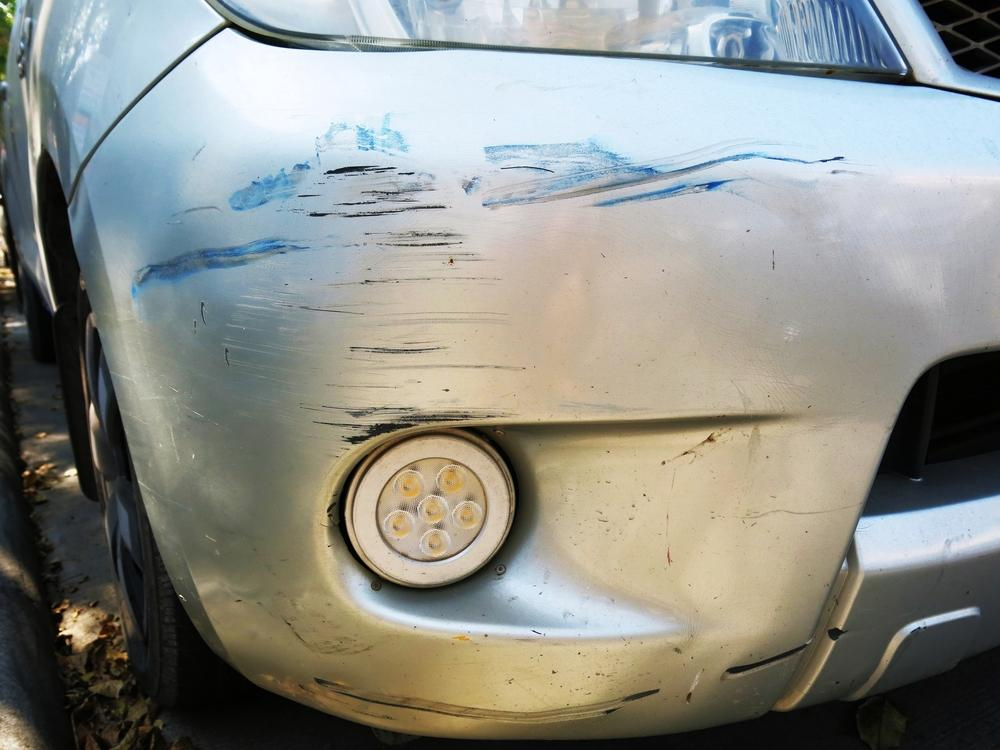scratch: (128, 118, 870, 450), (293, 638, 806, 729)
